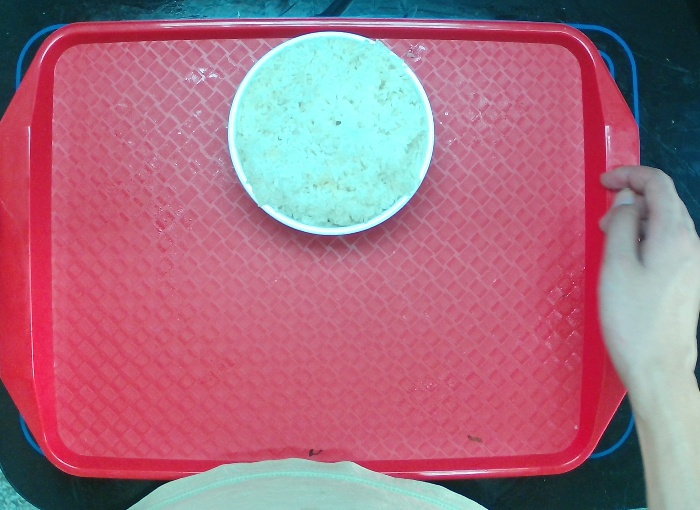YKMZ-Fan_Wan: (225, 31, 432, 238)
